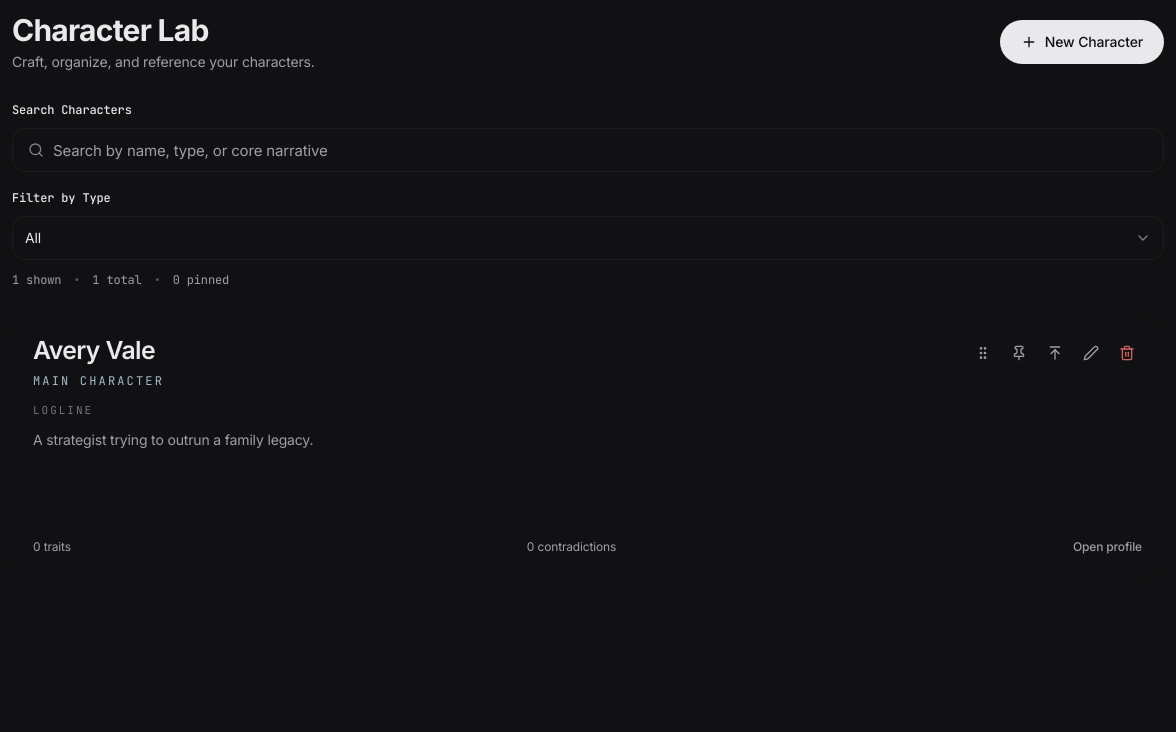
Scenario: CharacterLab › opens the reader card for a character and scrolls it into view
What coordinates should you click on to do the following:
click the button "Open profile"
I would click on:
 (1107, 547)
Its box is [1072,538,1143,556].
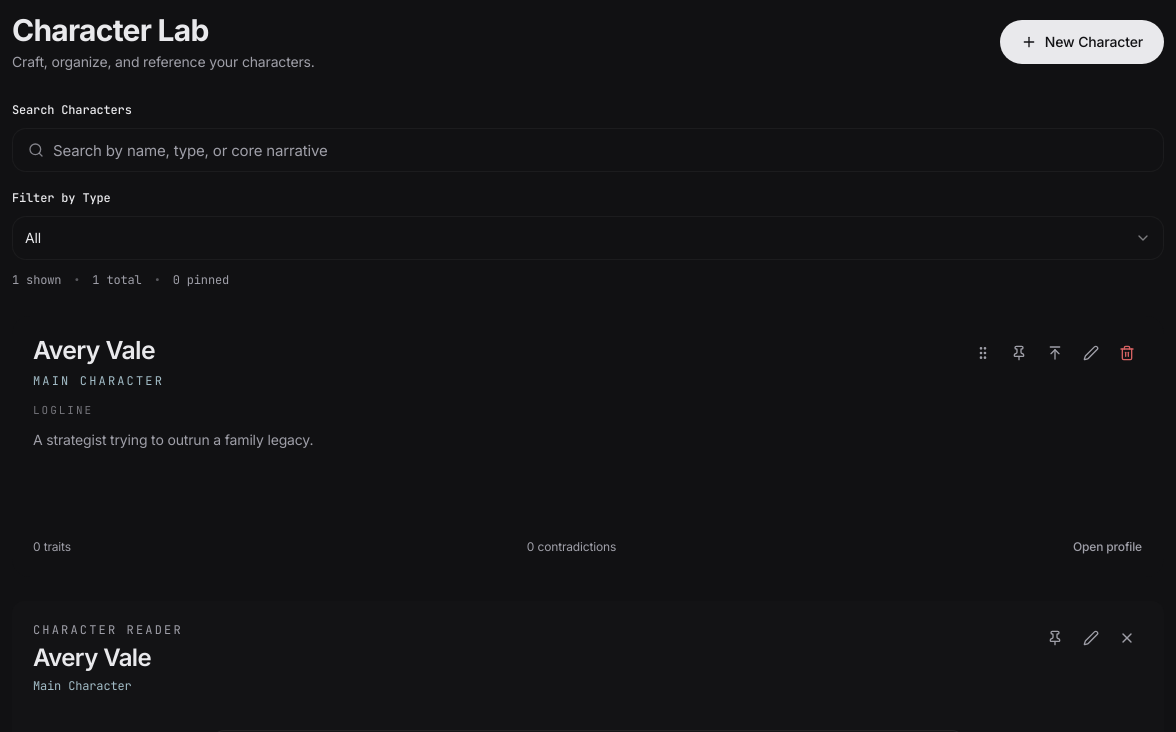
Expected: the text "Character Reader" is shown, [33,622,183,638]
